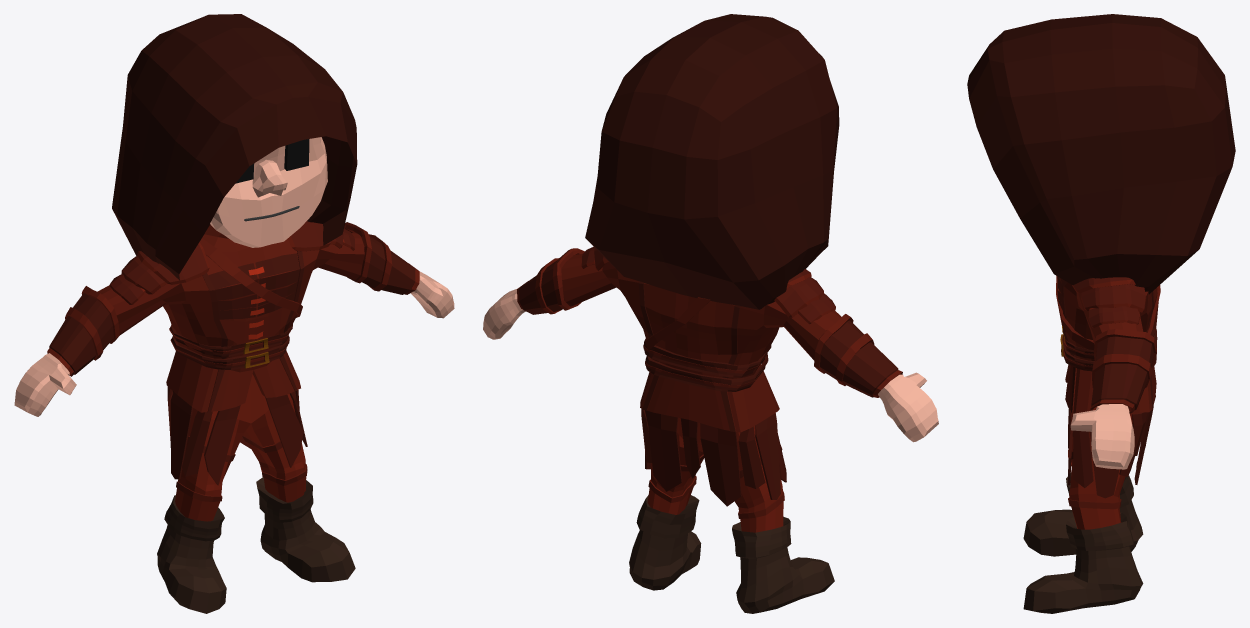
The model's file is Thief.fbx.
3 renders of one model, left to right at view 1: azimuth 30°, elevation 25°; view 2: azimuth 150°, elevation 25°; view 3: azimuth 270°, elevation 25°, orthographic. The views are drawn at different scales.
Visible parts, largest first — view 1: Joe; view 2: Joe; view 3: Joe.
Boxes of the visible parts, x1,y1,x2,y2 form: Joe: (14,14,454,613); Joe: (483,14,938,613); Joe: (967,14,1235,613).
Size of the model in its own units: 330 by 399 by 174.
